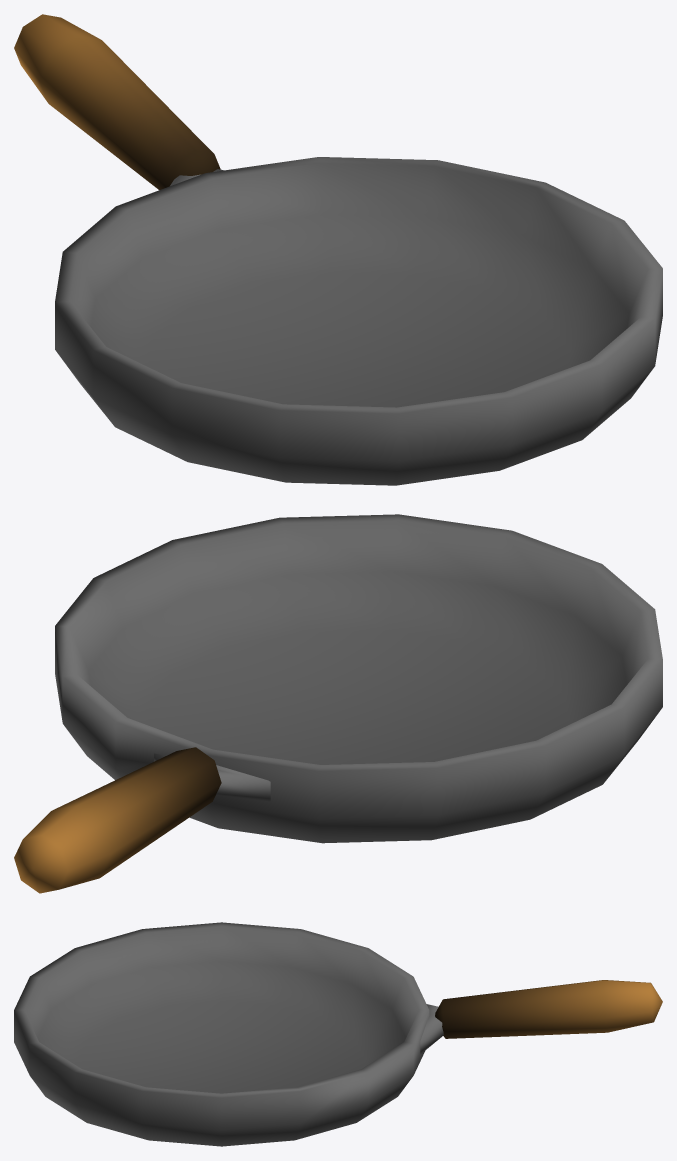
File: Pan.fbx
The picture shows the model from 3 angles, top to bottom: view 1: azimuth 30°, elevation 25°; view 2: azimuth 150°, elevation 25°; view 3: azimuth 270°, elevation 25°; orthographic projection. The views are drawn at different scales.
Parts seen in each view (by area): view 1: Pan; view 2: Pan; view 3: Pan.
Boxes of the visible parts, x1,y1,x2,y2 form: Pan: (14, 14, 662, 485); Pan: (14, 514, 662, 893); Pan: (14, 922, 662, 1146).
Size of the model in its own units: 77.41 by 19.52 by 121.
1 material, 1 textured.
